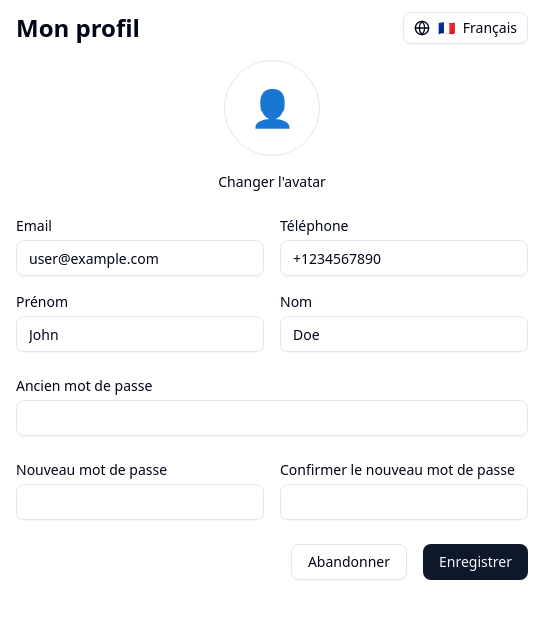
Test: Profile Component › Form Submission › should show error when passwords do not match
This screenshot has width=545, height=641.
Type "password123" into the password field with test id "profile-new-password-input". click: point(140, 502)
box: [16, 484, 264, 520]
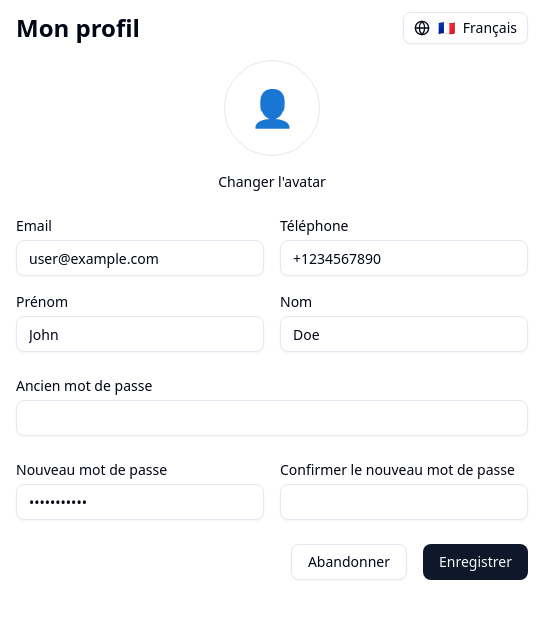
Type "password456" into the password field with test id "profile-confirm-password-input". click: point(404, 502)
box: [280, 484, 528, 520]
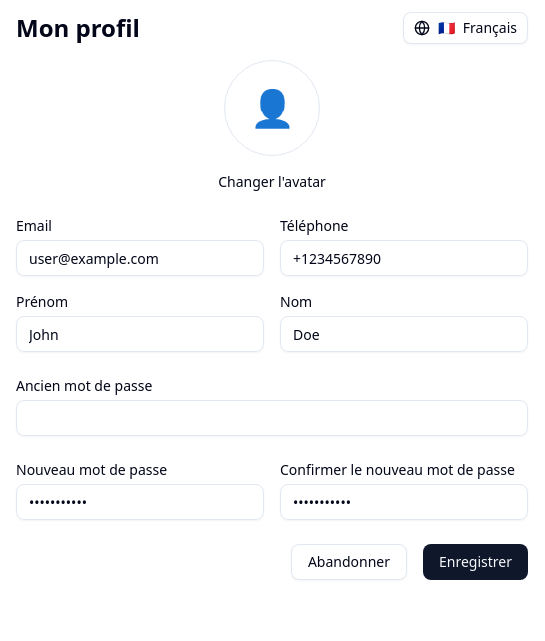
Click the button with test id "profile-save-button". click: point(476, 562)
box: [423, 544, 528, 580]
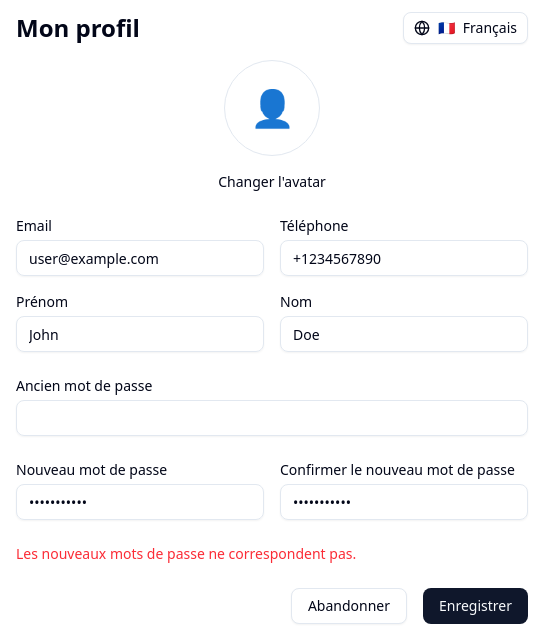
Expected: the text with test id "profile-message" reads "Les nouveaux mots de passe ne correspondent pas.", [16, 544, 356, 563]
